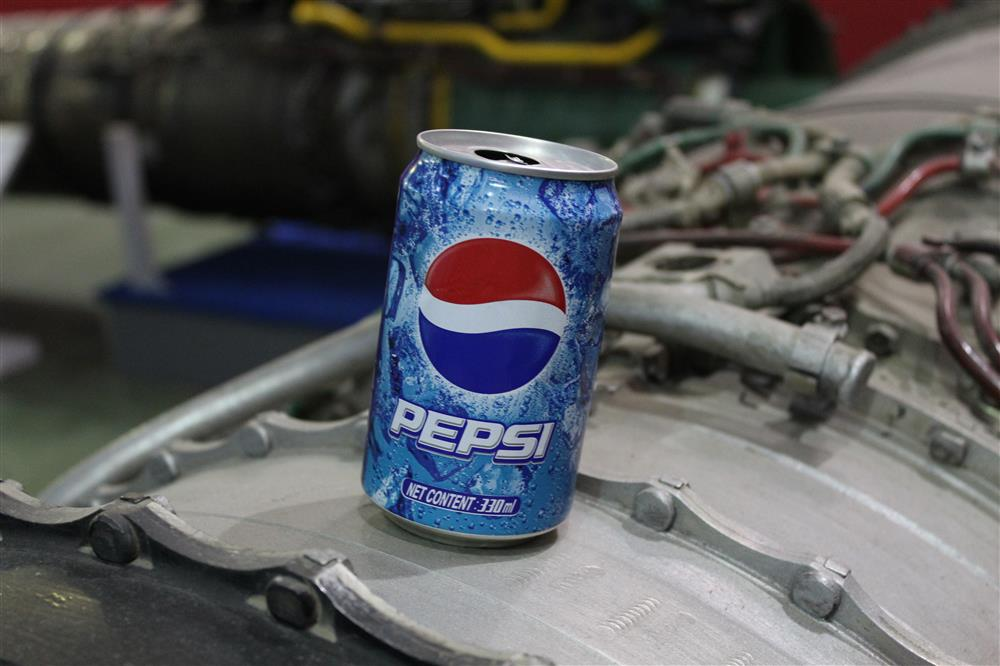sprike: (359, 125, 621, 550)
